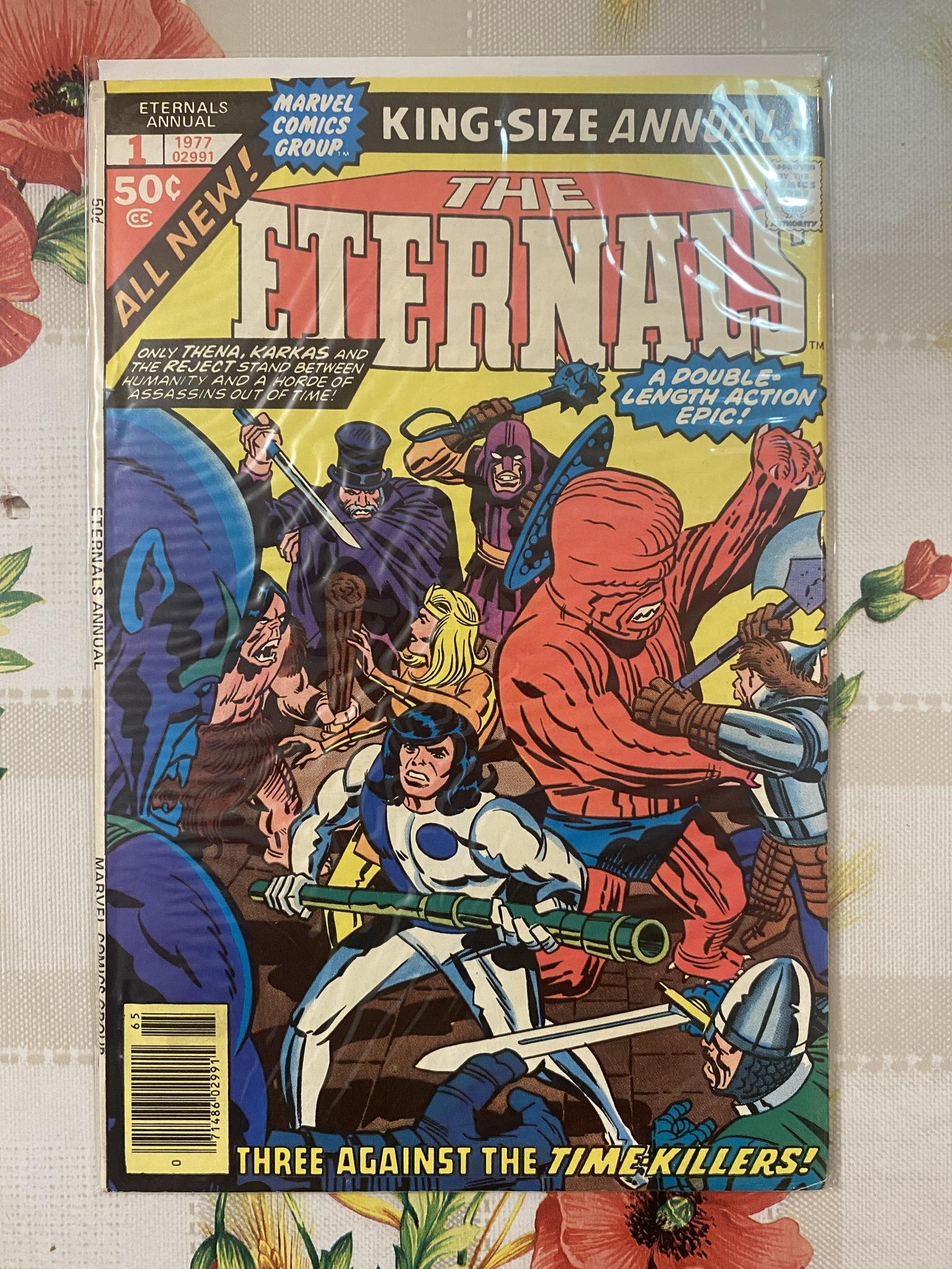comic: (89, 57, 831, 1224)
